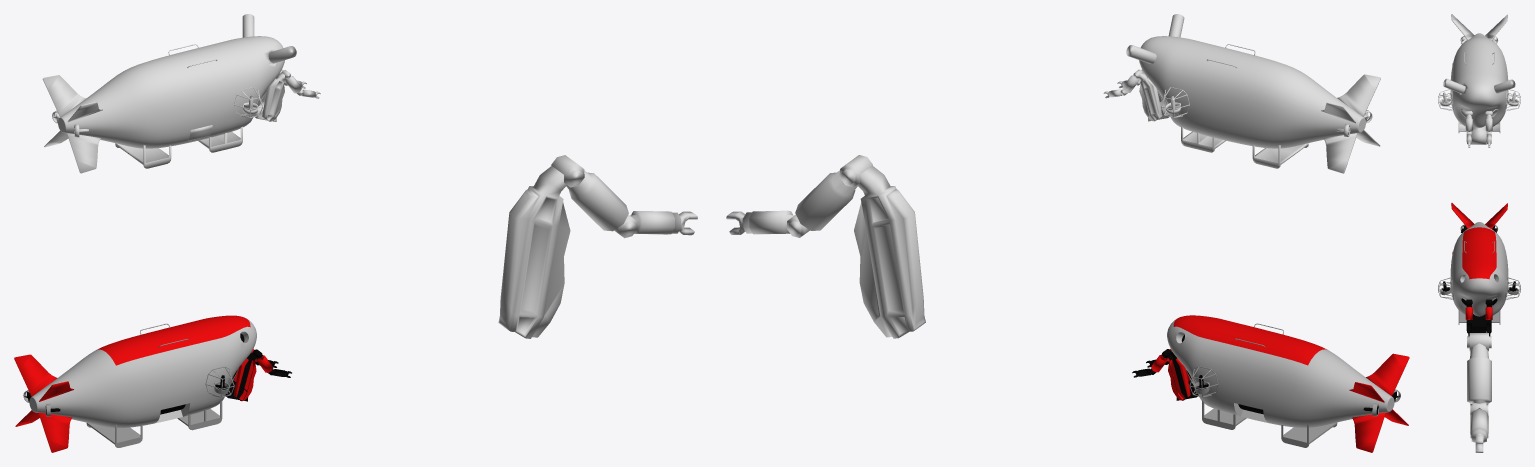
The model's file is Submersible.fbx.
3 views of the same model, side by side, from view 1: azimuth 30°, elevation 25°; view 2: azimuth 150°, elevation 25°; view 3: azimuth 270°, elevation 25° (orthographic). The views are drawn at different scales.
Parts seen in each view (by area): view 1: Body, Cylinder, Plane, Plane.002, Cylinder.005, Cylinder.006, Cube, Plane.001, Arm_1_R; view 2: Body, Cylinder, Plane, Plane.002, Cylinder.005, Cylinder.006, Cube, Plane.003, Arm_1_L; view 3: Body, Cylinder, Cylinder.005, Cylinder.006, Plane.002, Cylinder.008, Cylinder.017, Cylinder.021, Cylinder.022, Arm_2_L, Arm_2_R, Cylinder.012 (+5 smaller).
Boxes of the visible parts, <box> form: Body: <box>14,315,256,452</box>; Cylinder: <box>58,36,284,148</box>; Plane: <box>498,166,570,338</box>; Plane.002: <box>42,75,102,173</box>; Cylinder.005: <box>566,170,628,231</box>; Cylinder.006: <box>630,211,697,235</box>; Cube: <box>115,143,171,168</box>; Plane.001: <box>262,72,285,121</box>; Arm_1_R: <box>233,352,256,401</box>; Body: <box>1167,315,1409,452</box>; Cylinder: <box>1139,36,1365,148</box>; Plane: <box>854,165,925,338</box>; Plane.002: <box>1321,74,1380,173</box>; Cylinder.005: <box>795,170,857,230</box>; Cylinder.006: <box>726,210,794,234</box>; Cube: <box>1252,143,1308,168</box>; Plane.003: <box>1139,72,1162,121</box>; Arm_1_L: <box>1167,352,1190,400</box>; Body: <box>1438,203,1520,332</box>; Cylinder: <box>1450,33,1508,127</box>; Cylinder.005: <box>1467,343,1491,403</box>; Cylinder.006: <box>1470,408,1488,452</box>; Plane.002: <box>1451,14,1507,65</box>; Cylinder.008: <box>1467,333,1491,351</box>; Cylinder.017: <box>1471,125,1486,144</box>; Cylinder.021: <box>1443,78,1465,93</box>; Cylinder.022: <box>1494,79,1515,93</box>; Arm_2_L: <box>1485,299,1492,319</box>; Arm_2_R: <box>1465,299,1472,319</box>; Cylinder.012: <box>1465,111,1472,131</box>.
Size of the model in its own units: 1272 by 676 by 189.
